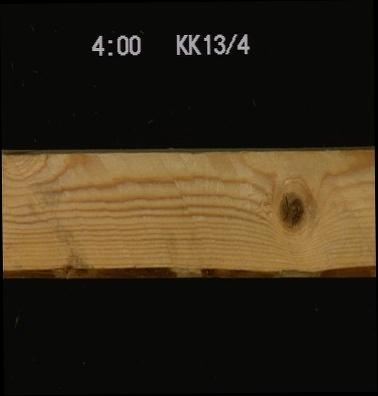sound_knot: (275, 190, 306, 230)
wave: (2, 264, 375, 278)
